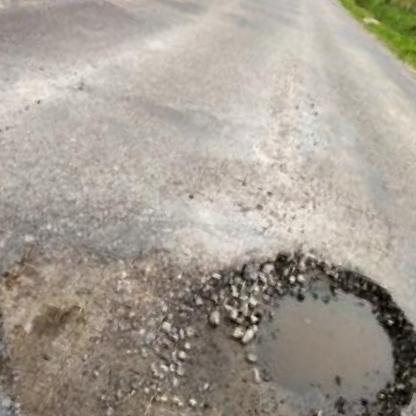pothole: (140, 215, 416, 416)
